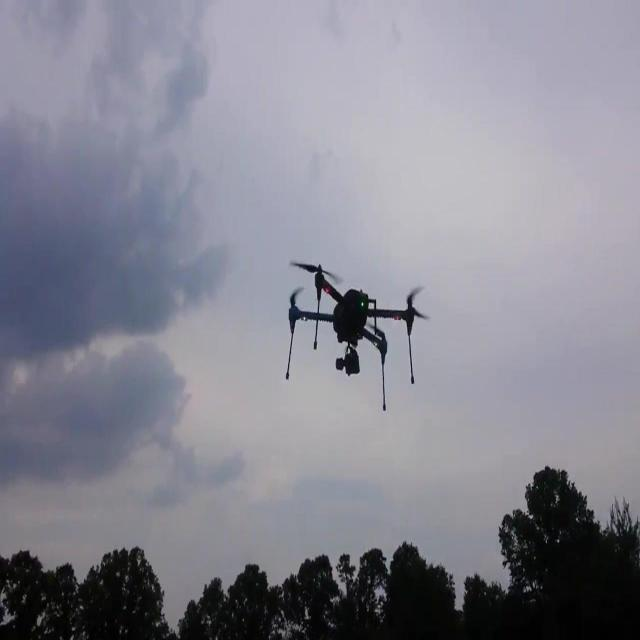drone: (282, 258, 428, 415)
